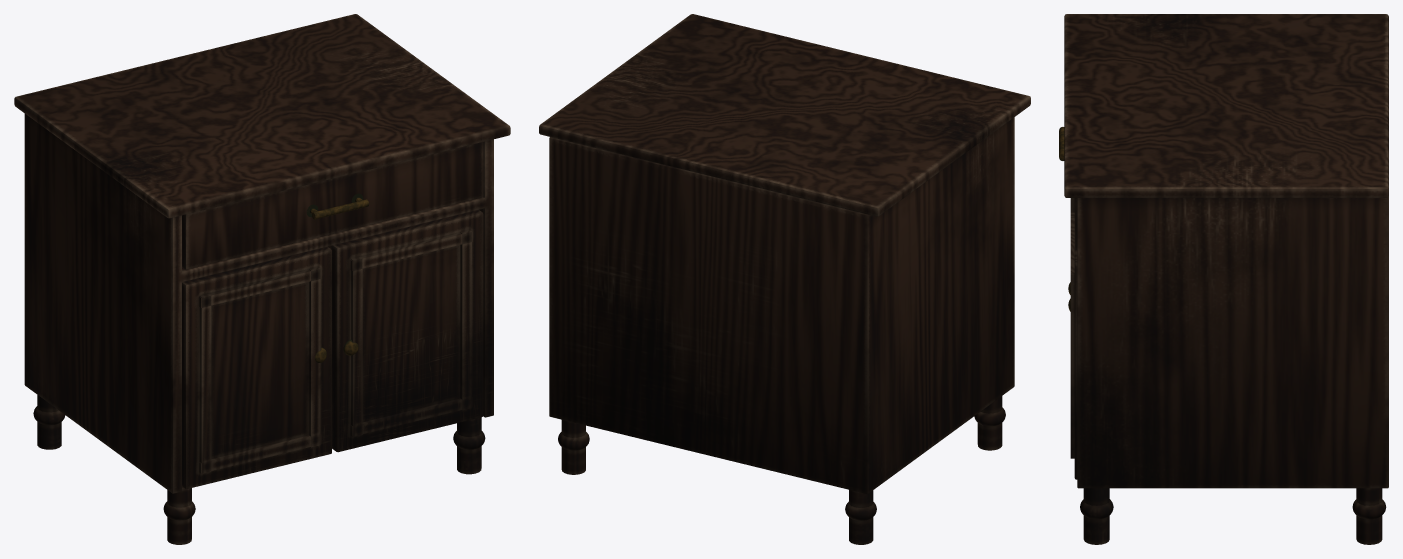
Rendered from hall_cabinet.glb.
3 renders of one model, left to right at view 1: azimuth 30°, elevation 25°; view 2: azimuth 150°, elevation 25°; view 3: azimuth 270°, elevation 25°, orthographic. The views are drawn at different scales.
Parts seen in each view (by area): view 1: Body, Door1, Door0, Drawer0, Drawer0Pull; view 2: Body; view 3: Body, Door1.
Boxes of the visible parts, left/top/right/bottom form: Body: left=14, top=14, right=510, bottom=544; Door1: left=331, top=210, right=483, bottom=452; Door0: left=182, top=246, right=331, bottom=488; Drawer0: left=182, top=142, right=483, bottom=269; Drawer0Pull: left=306, top=193, right=369, bottom=219; Body: left=539, top=14, right=1030, bottom=544; Body: left=1064, top=14, right=1388, bottom=544; Door1: left=1070, top=212, right=1077, bottom=479.
Size of the model in its own units: 0.64 by 0.62 by 0.508.
7 materials, 7 textured.
